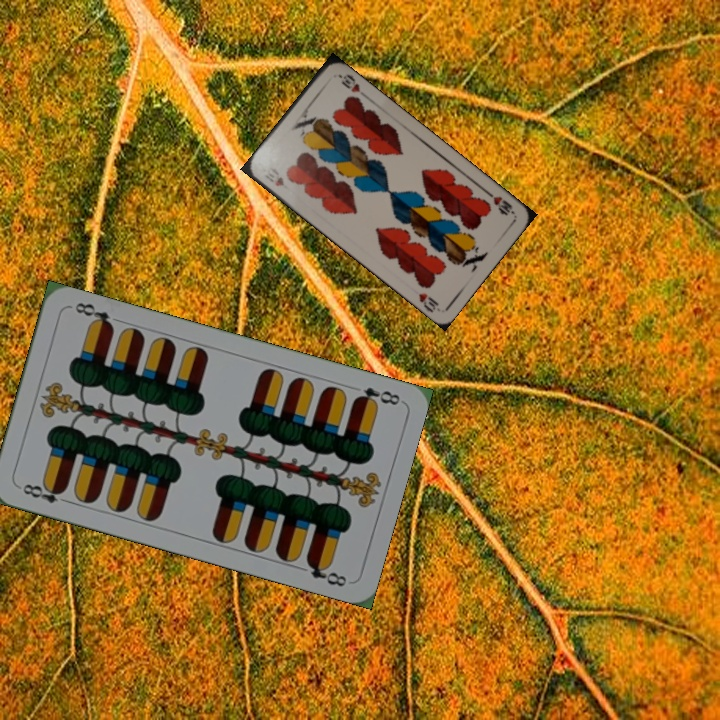E8: (345, 382, 403, 409), (18, 479, 73, 506)
H10: (482, 187, 517, 218), (261, 163, 286, 189)
